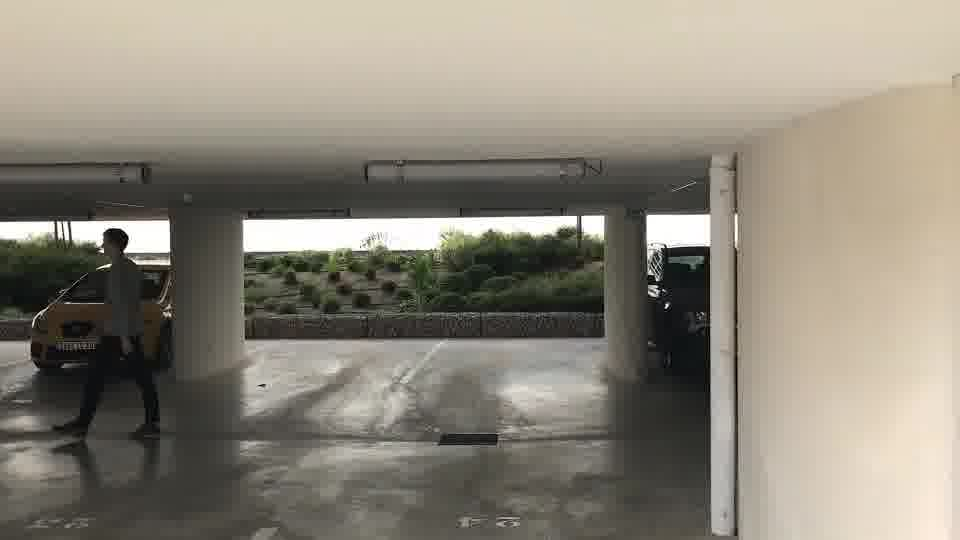jugador: (49, 224, 172, 445)
